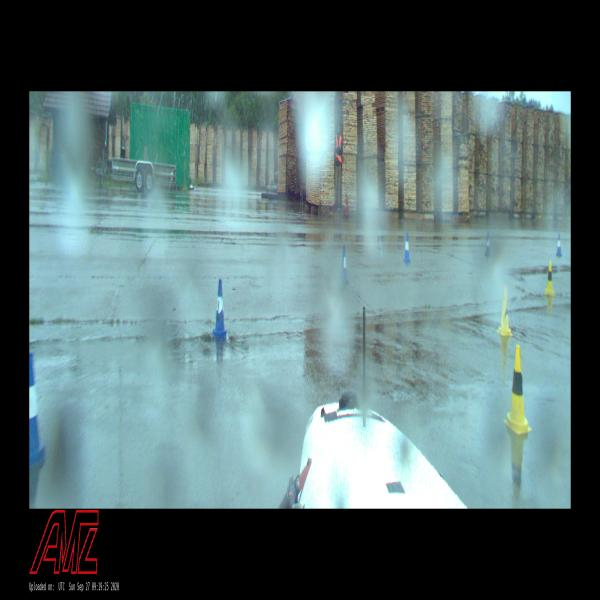blue_cone: (29, 355, 47, 469), (212, 280, 227, 337), (340, 244, 348, 284), (403, 233, 411, 264), (556, 234, 562, 256), (485, 232, 490, 256)
yellow_cone: (504, 345, 531, 434), (497, 286, 513, 336), (545, 261, 554, 296)
